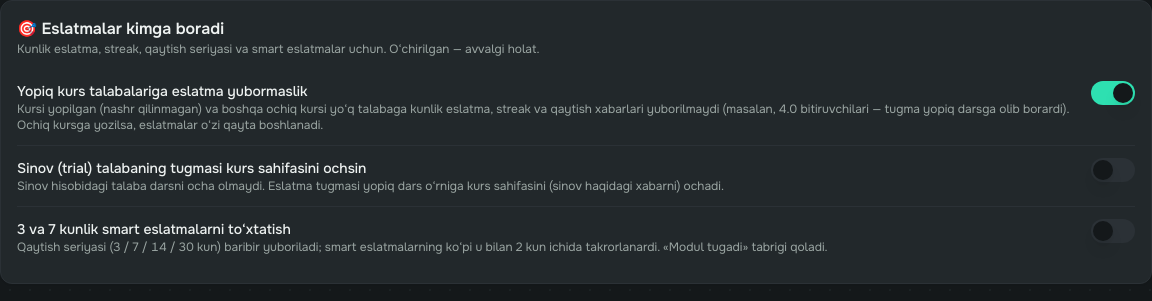
Test case: EngagementTargetingCard › a flip is one upsert of the whole row that keeps the other keys, then the switch shows it
Click the 3rd switch named "3 va 7 kunlik" at (1113, 231), box [1091, 219, 1135, 243]
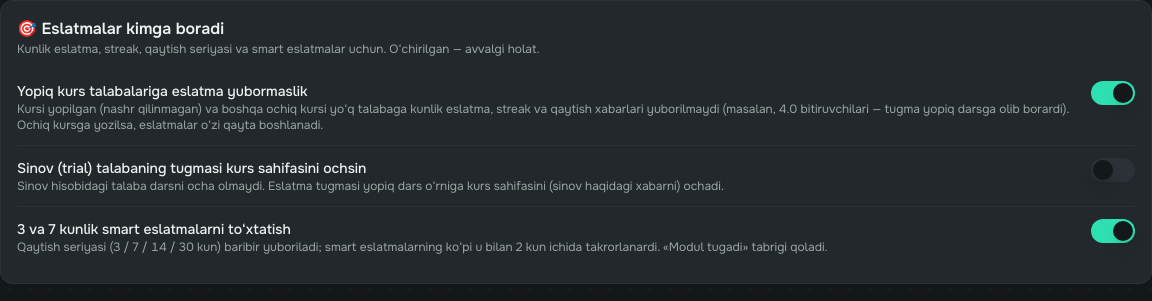
Now the 3rd switch named "3 va 7 kunlik" is checked, box [1091, 219, 1135, 243]
